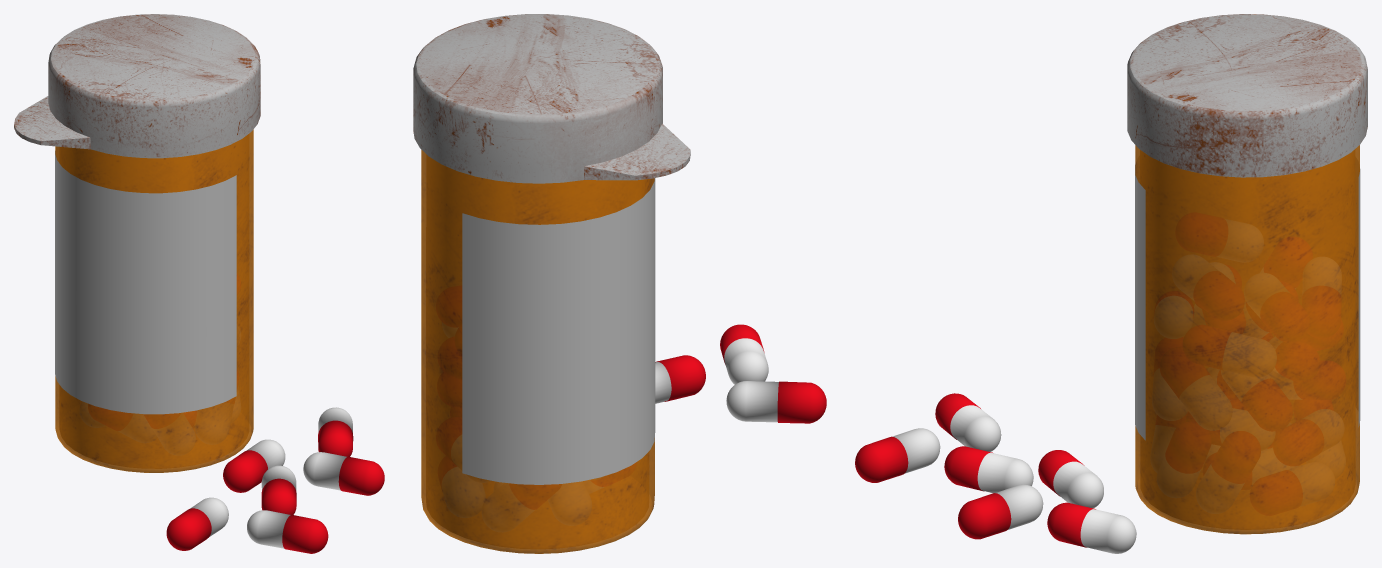
The picture shows the model from 3 angles, left to right: view 1: azimuth 30°, elevation 25°; view 2: azimuth 150°, elevation 25°; view 3: azimuth 270°, elevation 25°; orthographic projection. The views are drawn at different scales.
Visible parts, largest first — view 1: label, cap, bottle, Sphere.031, Sphere.034, Sphere.033, Sphere.030, Sphere.032, Sphere.029; view 2: label, cap, bottle, Sphere.033, Sphere.034, Sphere.032; view 3: bottle, cap, label, Sphere.029, Sphere.031, Sphere.034, Sphere.032, Sphere.033, Sphere.030.
Part boxes in pixels (x1=…): label: x1=55, y1=150, x2=236, y2=414; cap: x1=14, y1=14, x2=260, y2=158; bottle: x1=55, y1=129, x2=253, y2=472; Sphere.031: x1=303, y1=452, x2=384, y2=495; Sphere.034: x1=247, y1=510, x2=328, y2=553; Sphere.033: x1=166, y1=497, x2=228, y2=550; Sphere.030: x1=223, y1=439, x2=285, y2=492; Sphere.032: x1=261, y1=465, x2=296, y2=514; Sphere.029: x1=318, y1=407, x2=353, y2=456; label: x1=462, y1=178, x2=655, y2=484; cap: x1=413, y1=14, x2=690, y2=183; bottle: x1=421, y1=150, x2=654, y2=553; Sphere.033: x1=726, y1=381, x2=826, y2=423; Sphere.034: x1=720, y1=324, x2=768, y2=384; Sphere.032: x1=655, y1=355, x2=705, y2=403; bottle: x1=1135, y1=145, x2=1359, y2=534; cap: x1=1127, y1=14, x2=1367, y2=177; label: x1=1135, y1=164, x2=1360, y2=440; Sphere.029: x1=1047, y1=502, x2=1136, y2=553; Sphere.031: x1=958, y1=484, x2=1043, y2=539; Sphere.034: x1=855, y1=428, x2=940, y2=482; Sphere.032: x1=944, y1=446, x2=1033, y2=493; Sphere.033: x1=935, y1=393, x2=1001, y2=451; Sphere.030: x1=1038, y1=450, x2=1103, y2=508.
Size of the model in its own units: 117 by 157 by 171.
